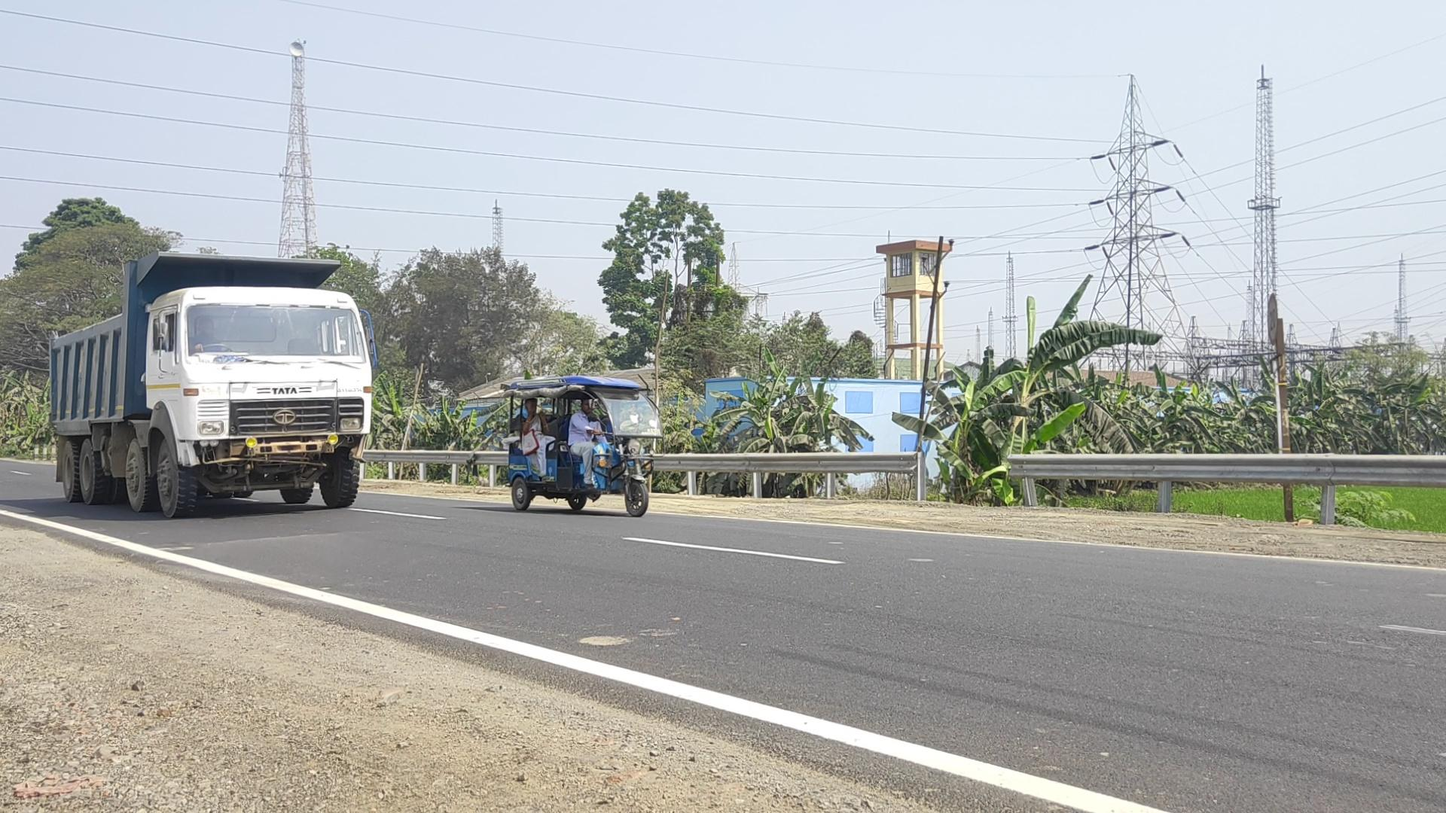Auto: (507, 375, 665, 517)
truck: (48, 251, 377, 520)
